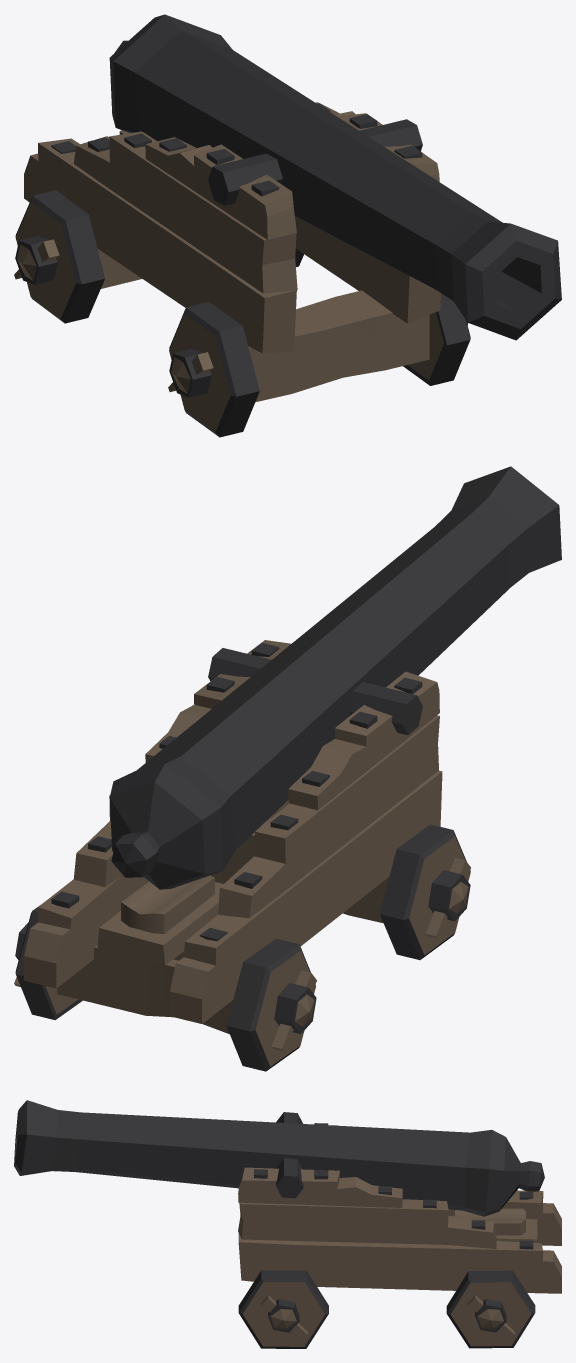
The model's file is SM_Prop_Cannon_LowDetail_01.glb.
The picture shows the model from 3 angles, top to bottom: view 1: azimuth 30°, elevation 25°; view 2: azimuth 150°, elevation 25°; view 3: azimuth 270°, elevation 25°; orthographic projection. The views are drawn at different scales.
Parts seen in each view (by area): view 1: SM_Prop_Cannon_LowDetail_01; view 2: SM_Prop_Cannon_LowDetail_01; view 3: SM_Prop_Cannon_LowDetail_01.
Boxes of the visible parts, box(x1,y1,x2,y2) form: SM_Prop_Cannon_LowDetail_01: box(14, 14, 561, 437); SM_Prop_Cannon_LowDetail_01: box(14, 466, 561, 1071); SM_Prop_Cannon_LowDetail_01: box(14, 1100, 561, 1348).
Bounding box in the file's own units: 0.00989 × 0.0103 × 0.0243.
